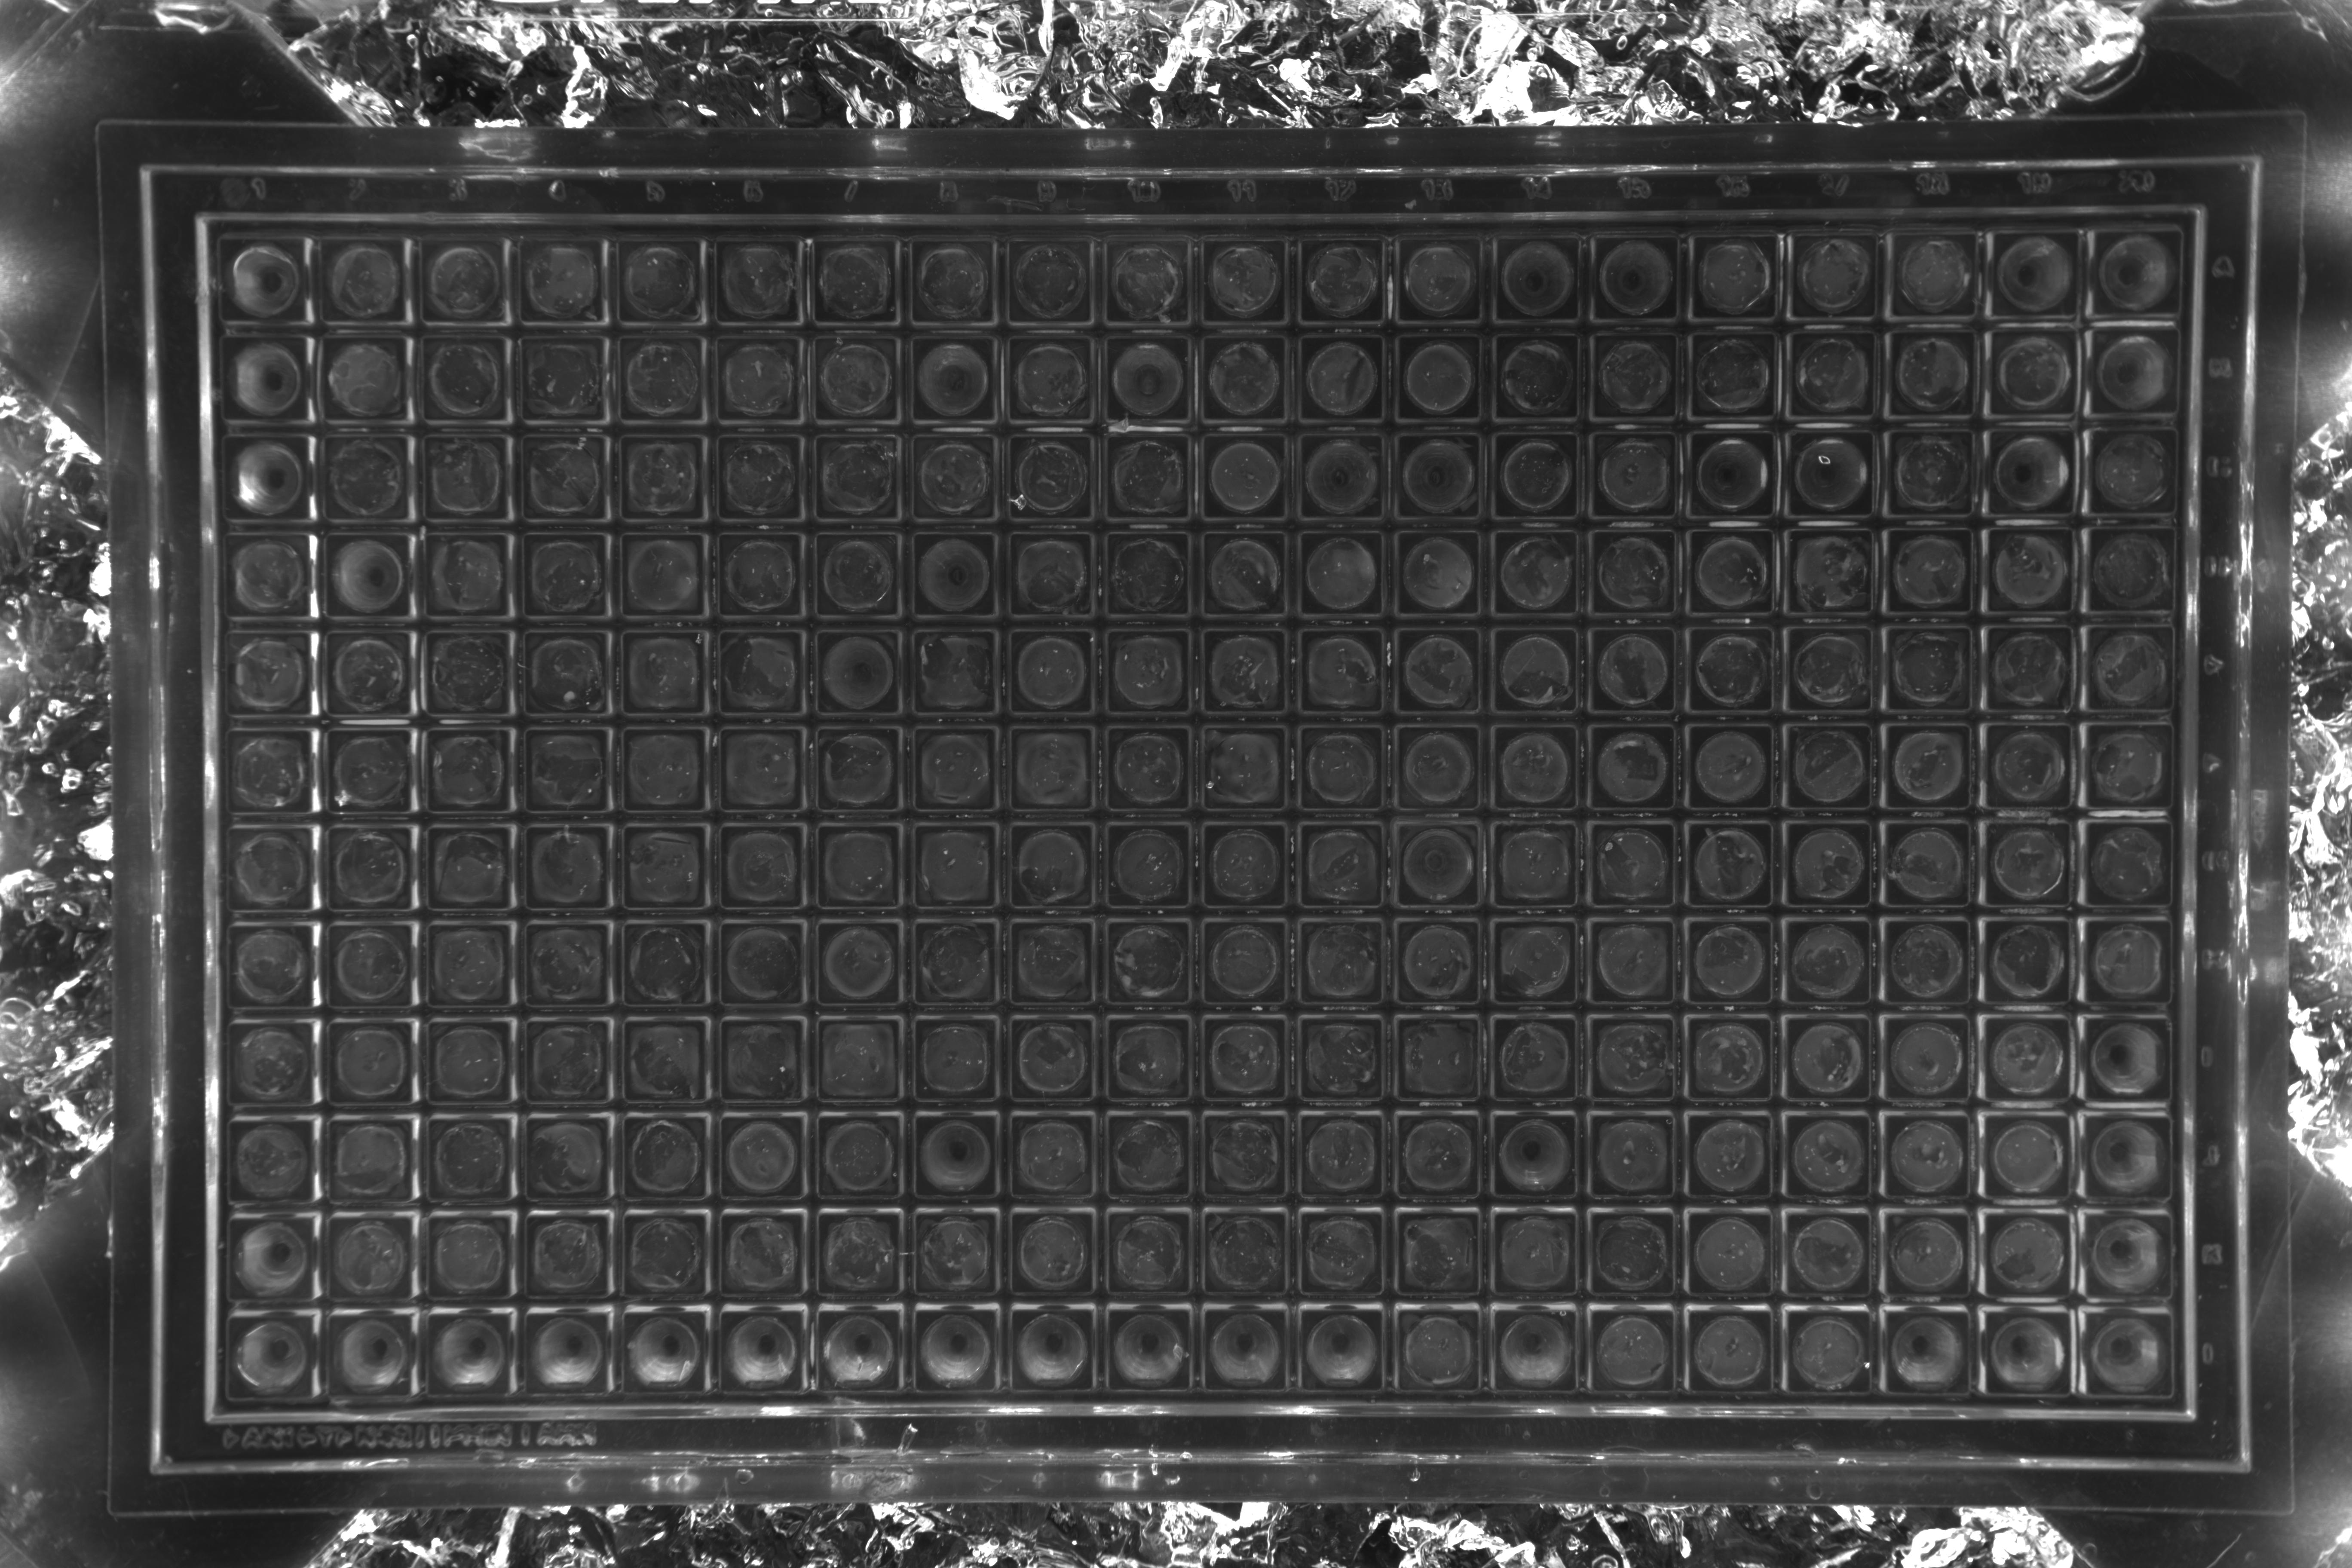WM_well: (497, 924, 586, 1011), (688, 436, 777, 523), (303, 1022, 390, 1109), (388, 138, 476, 226), (390, 238, 478, 325), (392, 338, 479, 425), (486, 140, 574, 227), (595, 924, 682, 1011), (693, 1018, 780, 1106), (693, 1116, 780, 1204), (980, 241, 1067, 329), (983, 824, 1071, 912), (1080, 920, 1167, 1008), (1176, 822, 1263, 910), (1372, 138, 1459, 226), (1465, 1113, 1552, 1200), (1470, 236, 1557, 324), (1659, 1211, 1746, 1298), (1661, 920, 1748, 1008), (1662, 822, 1750, 910), (1666, 233, 1753, 320), (1956, 919, 2044, 1006), (2061, 427, 2149, 514)
